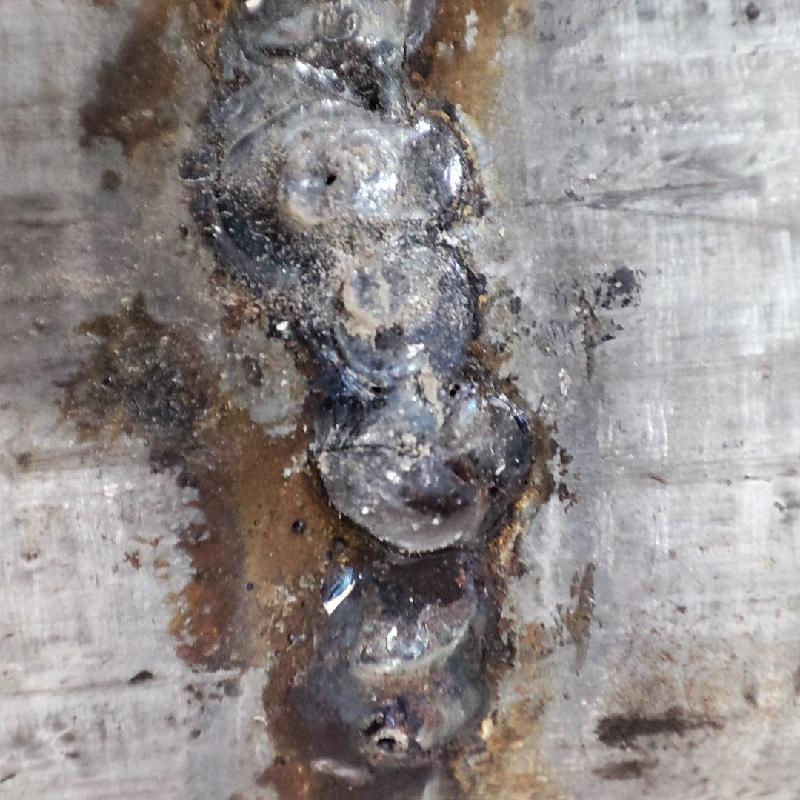Not_fully_soldered: (201, 5, 540, 795)
Surface_pores: (305, 154, 353, 202), (365, 725, 417, 765)
